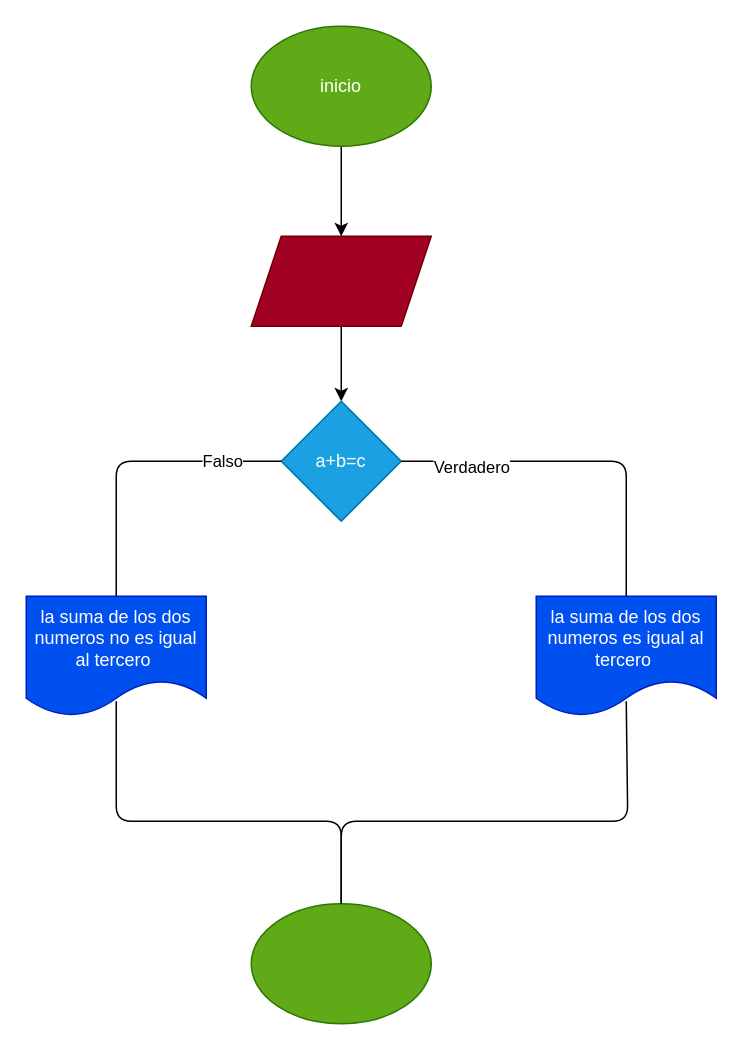
The diagram is 743 pixels wide and 1050 high, and some of its shapes have lost their labels. The centre of each missing label's shape, as x and y in pixels:
a,b,c: [340,280]
fin: [340,963]
